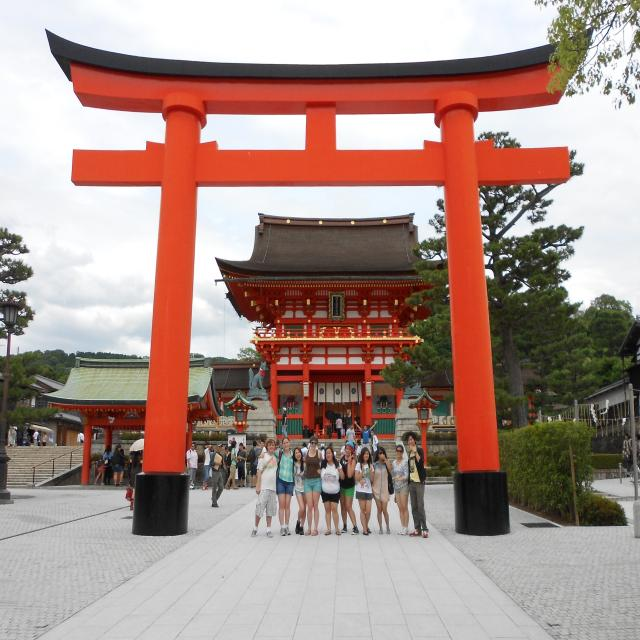body: (257, 435, 307, 537), (303, 435, 339, 536), (250, 437, 280, 539), (290, 444, 322, 536), (404, 430, 430, 539), (319, 445, 346, 537), (371, 446, 395, 535), (338, 440, 360, 536), (354, 446, 375, 537), (391, 442, 411, 536), (353, 418, 378, 464), (209, 442, 224, 508), (223, 440, 240, 490), (129, 451, 141, 512), (248, 439, 262, 489), (184, 442, 198, 491), (111, 443, 126, 487), (201, 438, 212, 492), (236, 442, 248, 488), (343, 423, 358, 458), (125, 448, 134, 506), (94, 448, 107, 486), (102, 445, 114, 485), (307, 436, 319, 471), (623, 433, 633, 472), (370, 429, 380, 463), (222, 445, 229, 489), (355, 439, 364, 472), (6, 424, 18, 448), (335, 414, 346, 440), (226, 445, 232, 489), (258, 439, 267, 464), (281, 407, 287, 441), (329, 442, 339, 462), (208, 446, 214, 478), (324, 417, 332, 439), (345, 408, 352, 431), (193, 442, 199, 467), (320, 443, 326, 468), (635, 433, 640, 463), (300, 442, 308, 458), (341, 440, 349, 455), (32, 429, 39, 446), (77, 431, 84, 446), (36, 430, 42, 447), (273, 440, 282, 451), (42, 432, 48, 446), (120, 448, 124, 461), (100, 430, 104, 438)
